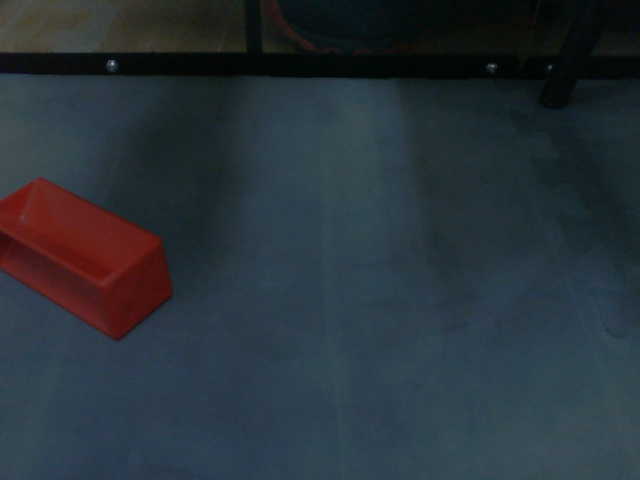RedSample: (1, 174, 175, 344)
